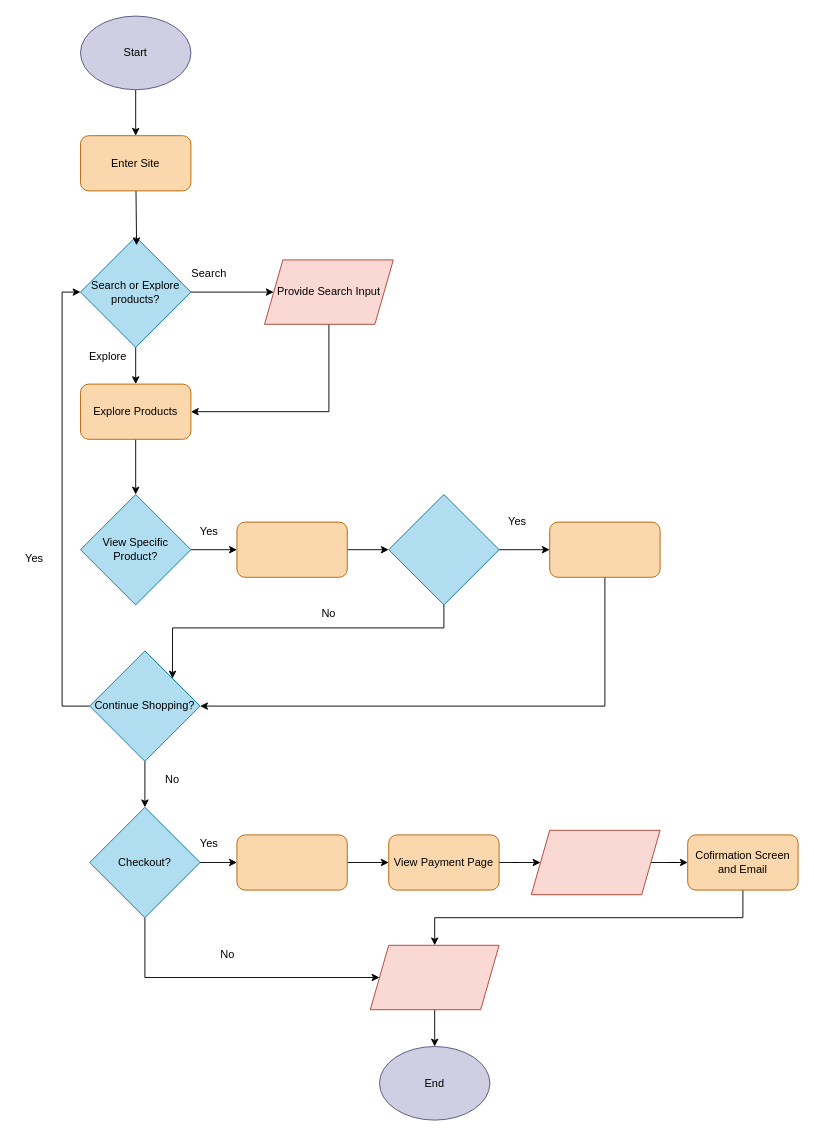
This 814x1136 diagram has some shape labels left out. The shapes that lost their labels are listed below. From the top down, each one's box as (x1, y1, x2, y2) in pixels, then its label:
(236, 521, 347, 577): Open product webpage
(388, 494, 499, 605): Add to Cart?
(549, 521, 660, 577): Add to cart confirmation.
(236, 834, 347, 890): View Cart Page
(530, 829, 660, 895): Input Payment Info
(369, 944, 499, 1010): Leave Site
